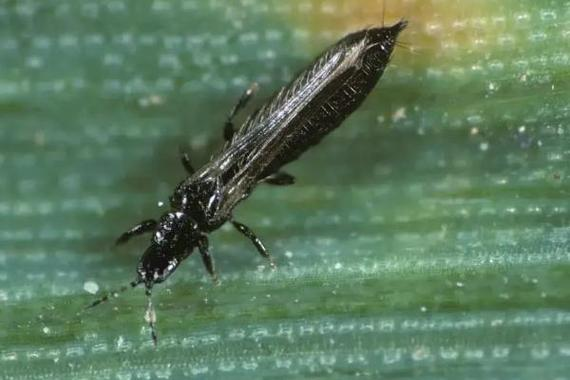Phlaeothripidae: (78, 4, 412, 345)
